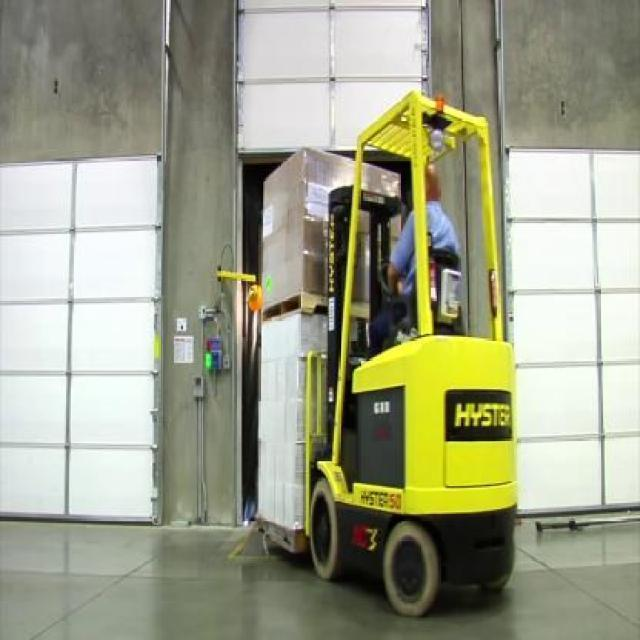forklift: (317, 97, 517, 619)
